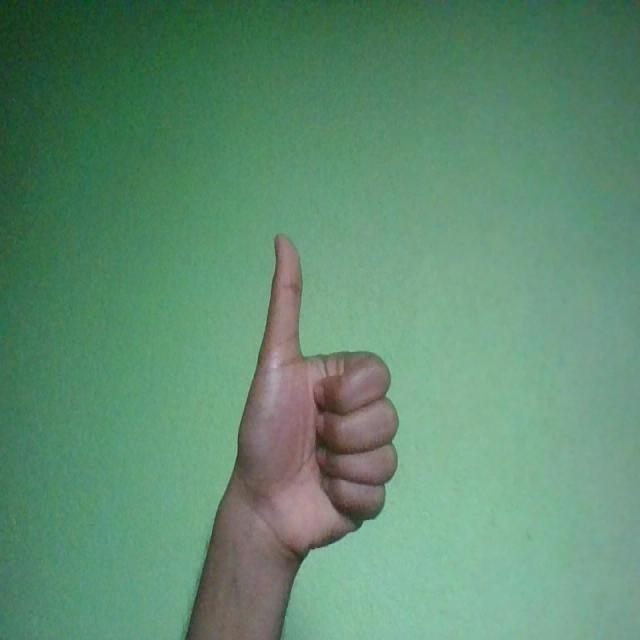Good Job: (234, 234, 400, 562)
